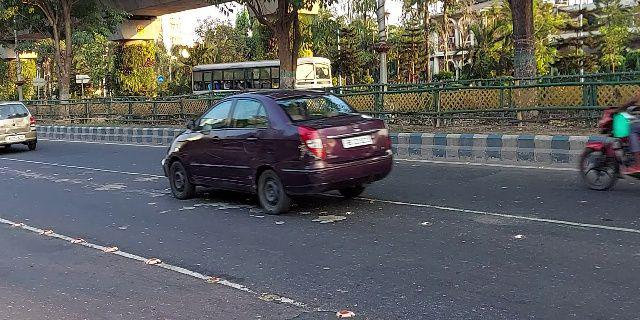Car: (160, 86, 398, 214), (1, 97, 43, 156)
Motorbike: (572, 106, 638, 192)
